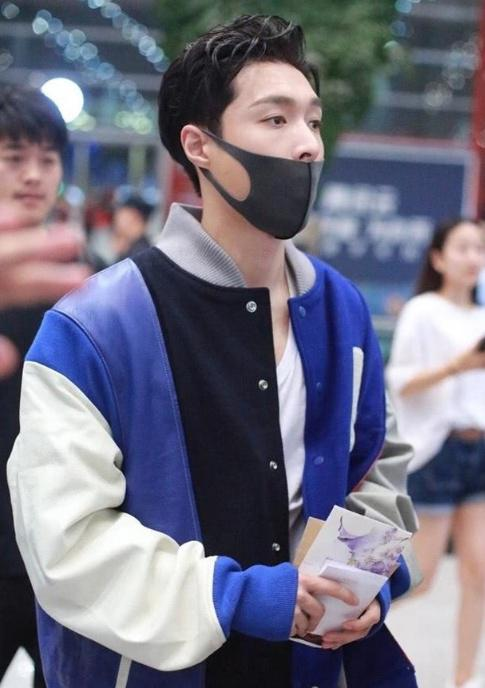NONE: (1, 137, 64, 231), (440, 232, 485, 284)
WRONG: (207, 73, 323, 237)
